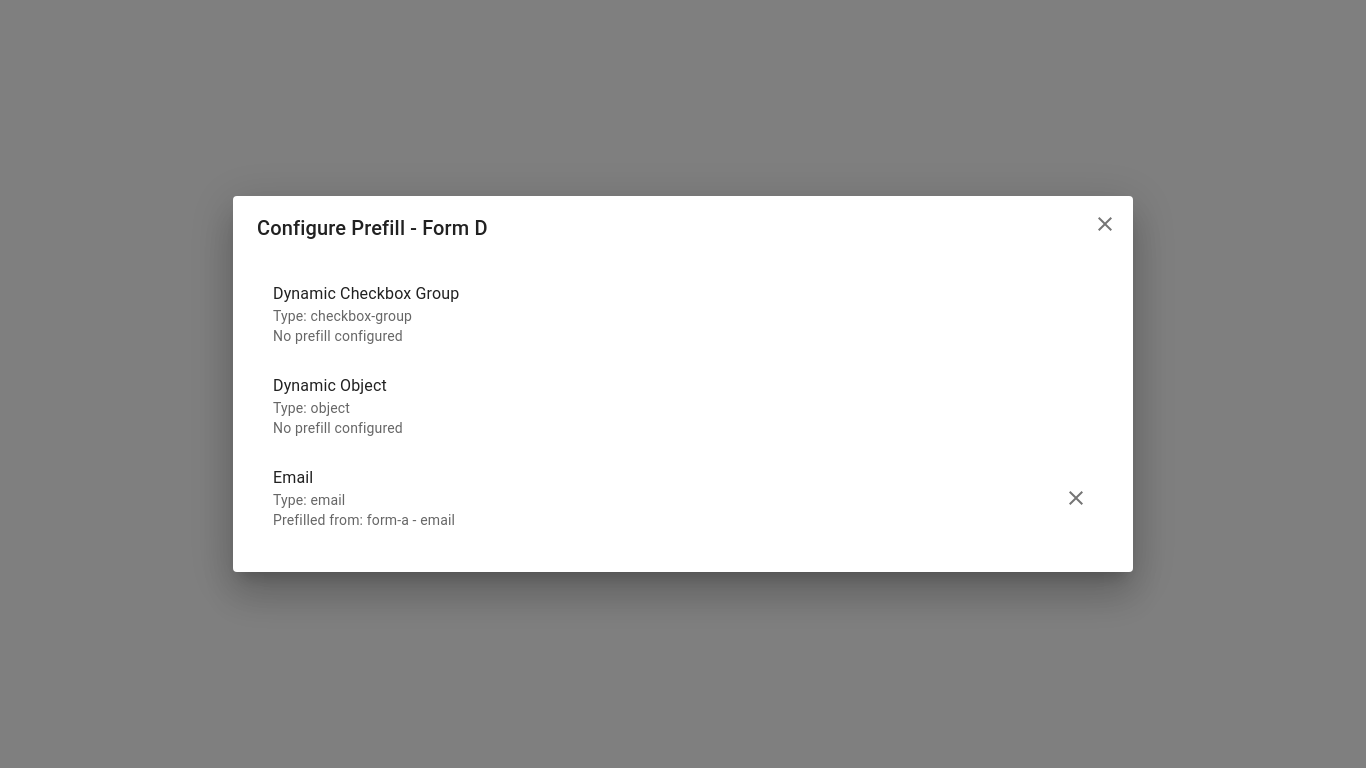
it: PrefillModal › opens source selection dialog when clicking unprefilled field
Note: Click on unprefilled field
Click the text "Dynamic Checkbox Group": x=366, y=294 [273,284,459,303]
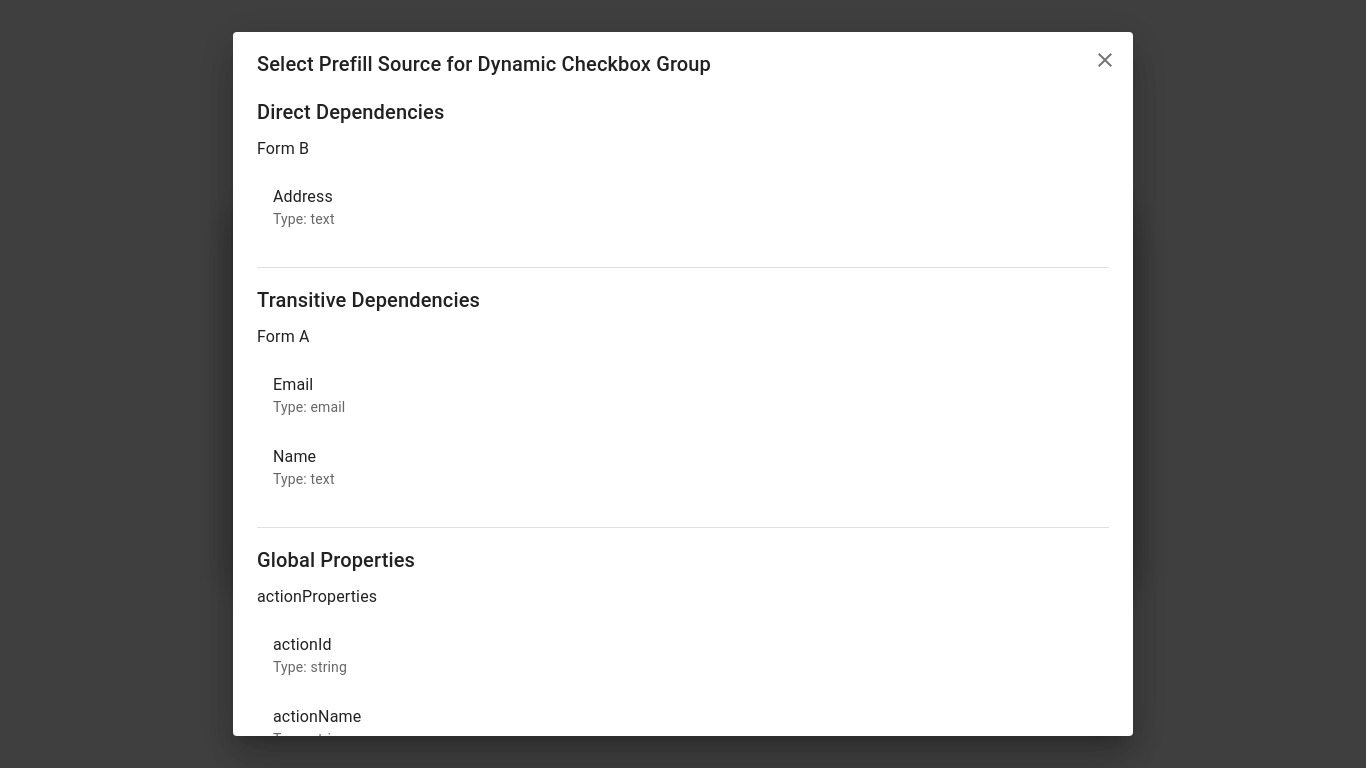
Now the heading "Select Prefill Source for Dynamic Checkbox Group" is shown, box [233,32,1133,96]
Now the heading "Direct Dependencies" is shown, box [257,100,444,124]
Now the heading "Transitive Dependencies" is shown, box [257,288,480,312]
